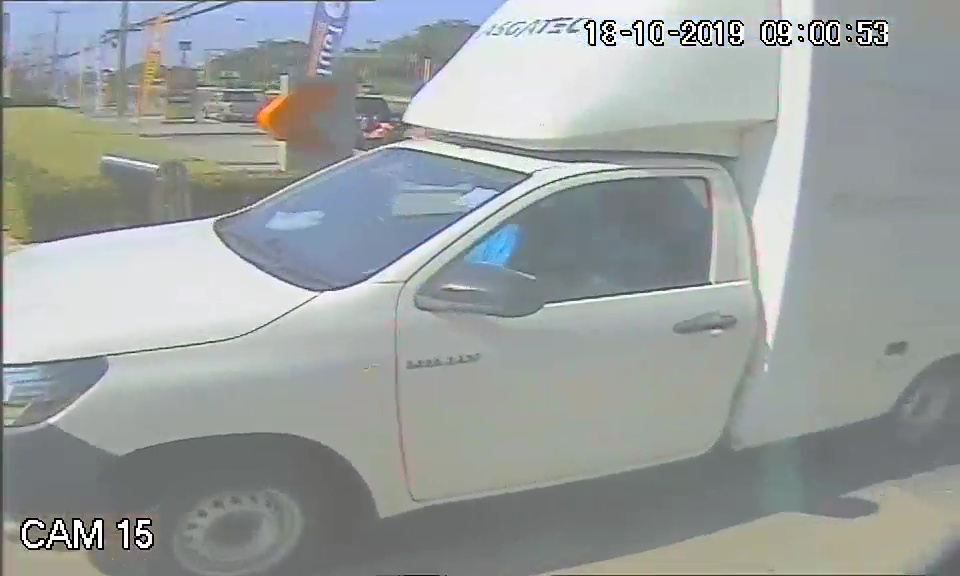pickup: (6, 138, 960, 504)
